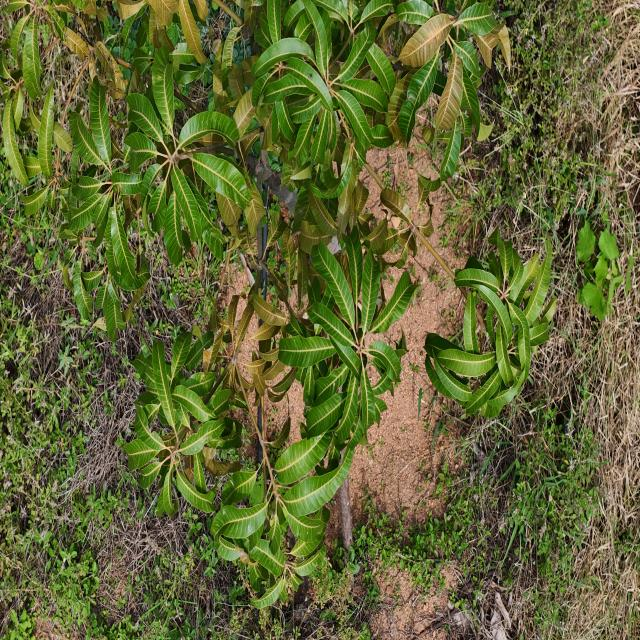mangoTree: (0, 0, 563, 623)
